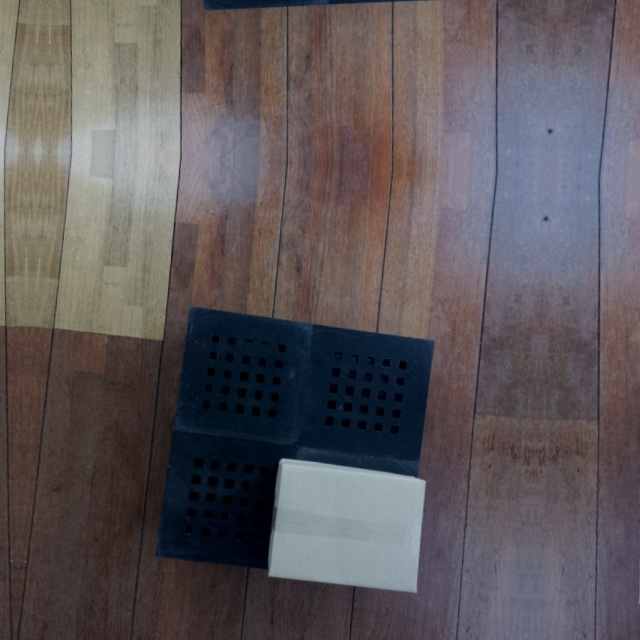box: (265, 456, 428, 597)
pallet: (147, 301, 440, 582)
